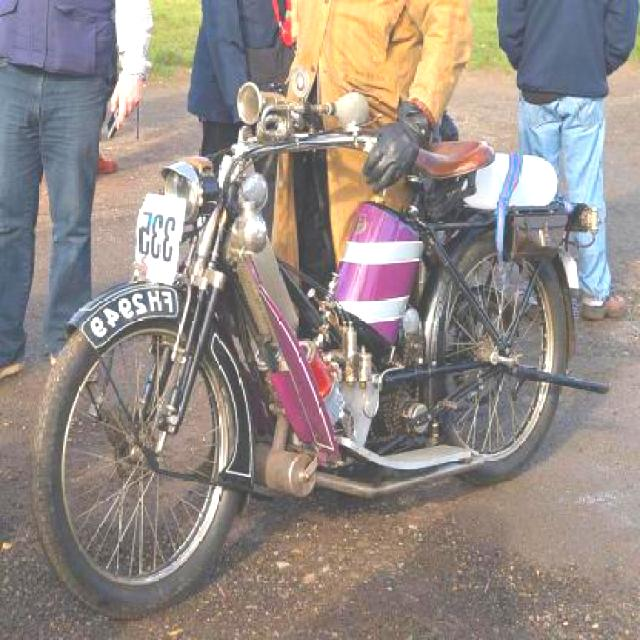Person: (2, 0, 157, 378), (278, 0, 475, 278), (496, 0, 640, 318), (184, 0, 298, 156)
